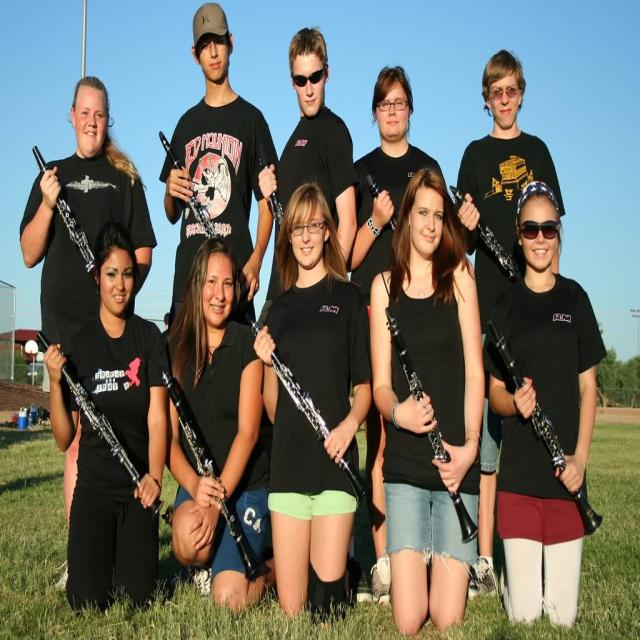clarinet: (486, 316, 605, 540), (36, 330, 166, 520), (382, 303, 482, 547), (249, 315, 372, 506), (158, 362, 263, 583), (34, 142, 98, 280), (448, 180, 524, 286), (156, 130, 224, 243), (259, 140, 286, 234), (365, 170, 399, 232)
